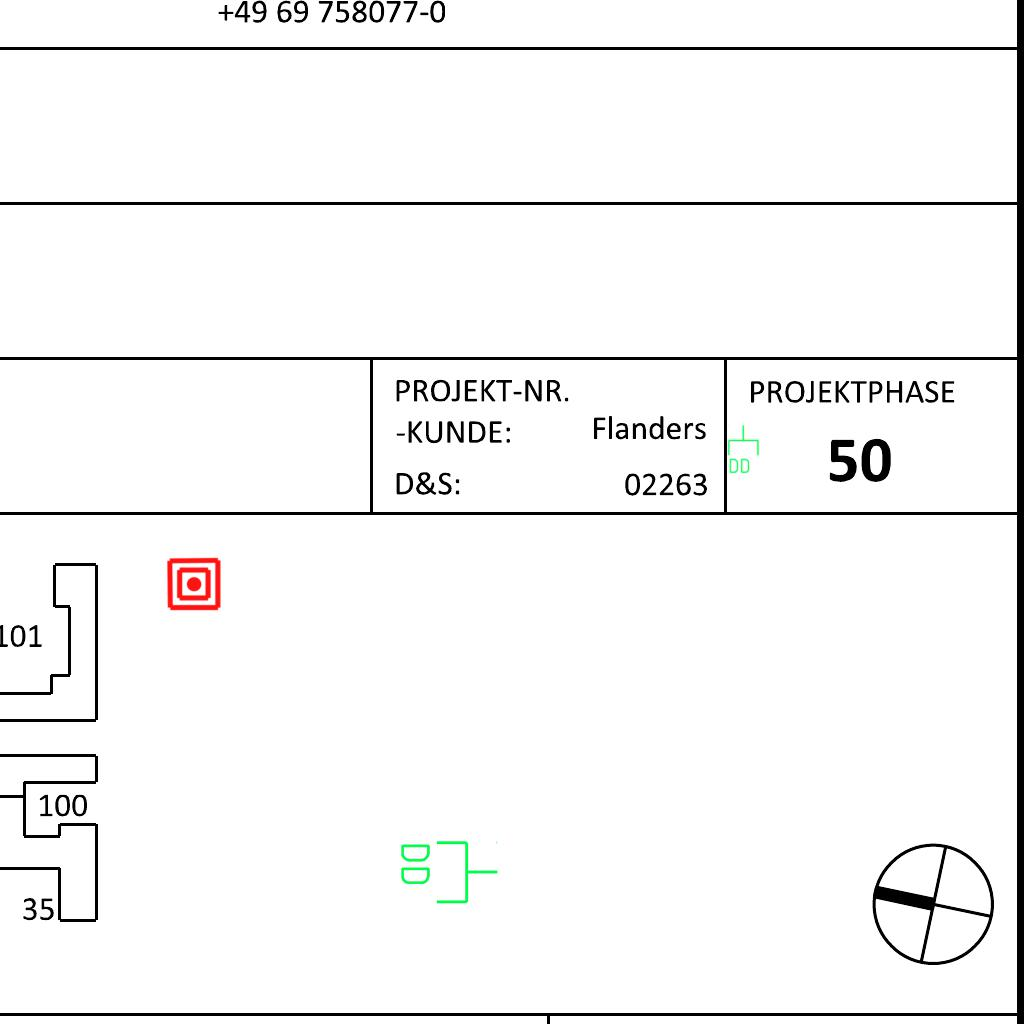Datenanschluss_zweifach: (397, 837, 500, 906), (726, 424, 760, 475)
NAM-Nichtautomatischer_Melder: (166, 556, 222, 612)
